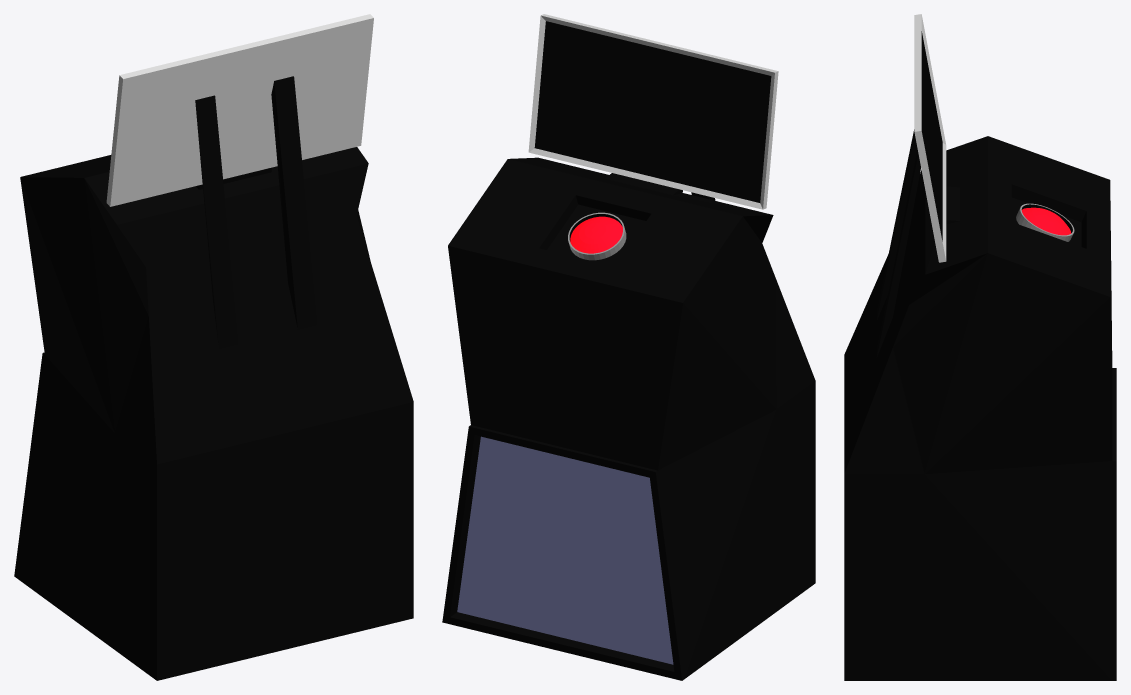
The model's file is Start_Button_triangle.fbx.
3 views of the same model, side by side, from view 1: azimuth 30°, elevation 25°; view 2: azimuth 150°, elevation 25°; view 3: azimuth 270°, elevation 25° (orthographic). The views are drawn at different scales.
Parts seen in each view (by area): view 1: Cube; view 2: Cube; view 3: Cube.
Boxes of the visible parts, box(x1,y1,x2,y2) form: Cube: box(14, 14, 413, 680); Cube: box(442, 14, 815, 680); Cube: box(844, 14, 1116, 680).
Bounding box in the file's own units: 316 × 678 × 305.
